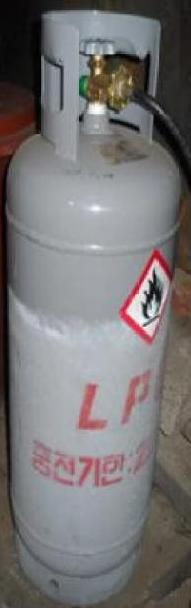cylinder: (0, 1, 191, 608)
